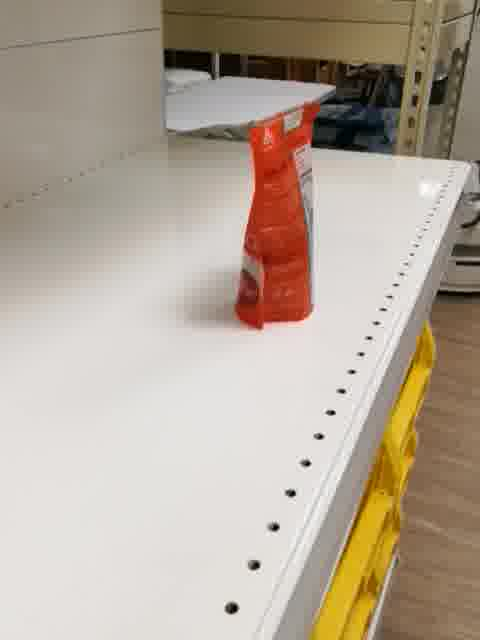whitechia: (235, 99, 324, 333)
